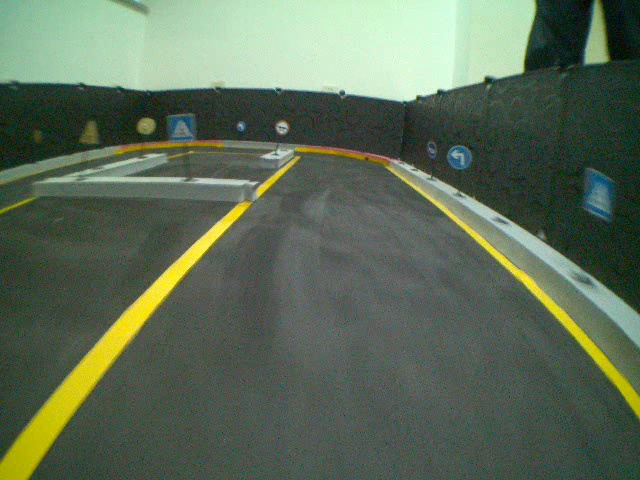Check: (273, 120, 290, 135)
crossing: (165, 113, 196, 143)
turn: (447, 144, 473, 172)
